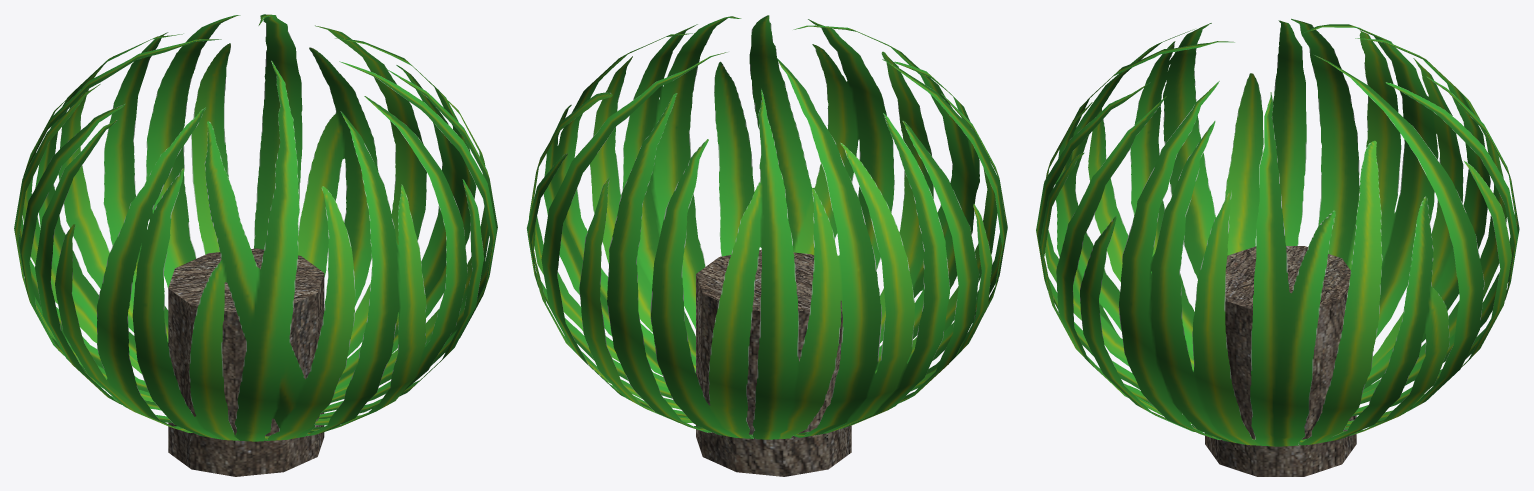
The model's file is bush.fbx.
3 renders of one model, left to right at view 1: azimuth 30°, elevation 25°; view 2: azimuth 150°, elevation 25°; view 3: azimuth 270°, elevation 25°, orthographic.
Visible parts, largest first — view 1: Mesh; view 2: Mesh; view 3: Mesh.
Part boxes in pixels (<box>): Mesh: <box>14,14,497,476</box>; Mesh: <box>526,15,1007,476</box>; Mesh: <box>1036,18,1519,476</box>.
Bounding box in the file's own units: 0.816 × 0.7498 × 0.806.
